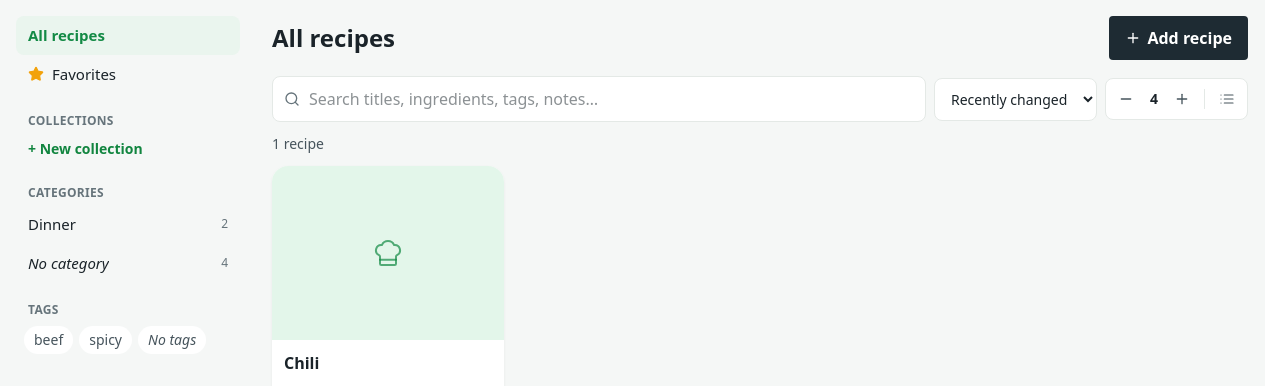
Test: browsing the recipe list › recipes with no category can be found, with how many there are
What coordinates should you click on to do the following:
click the button "No category 4"
I would click on:
 (128, 263)
Its box is top-left (16, 244), bottom-right (240, 282).
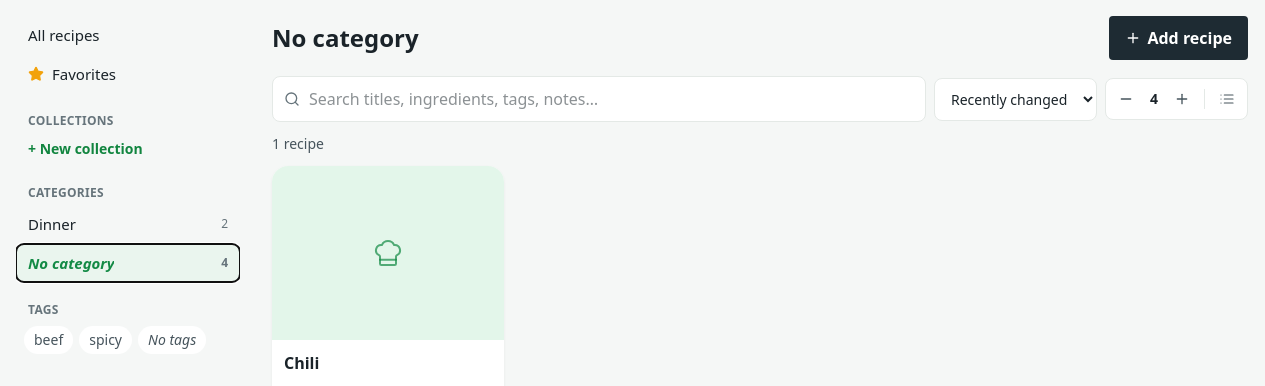
Expected: the heading "No category" is shown, top-left (272, 22), bottom-right (419, 54)
